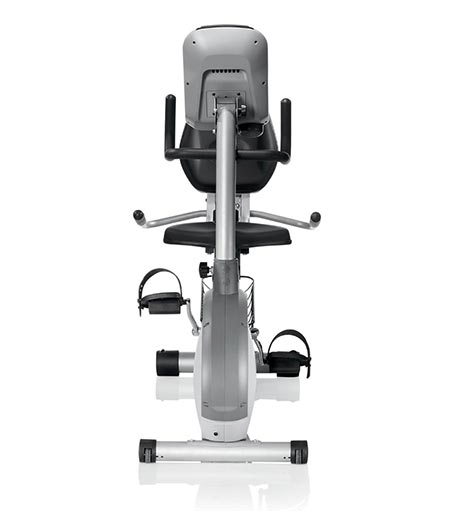gym_bike: (125, 26, 326, 480)
